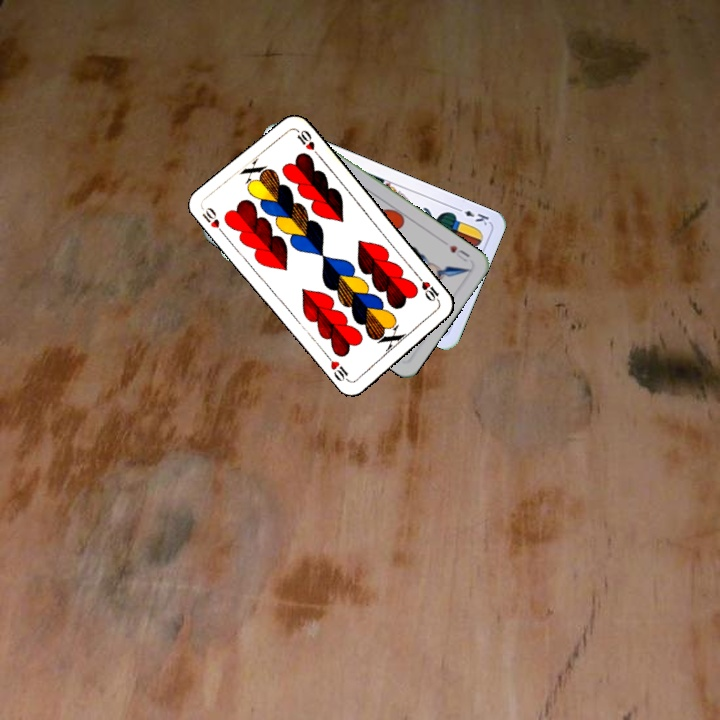EK: (452, 203, 492, 228)
H10: (198, 203, 228, 239), (414, 272, 443, 307)
HU: (445, 241, 473, 265)
